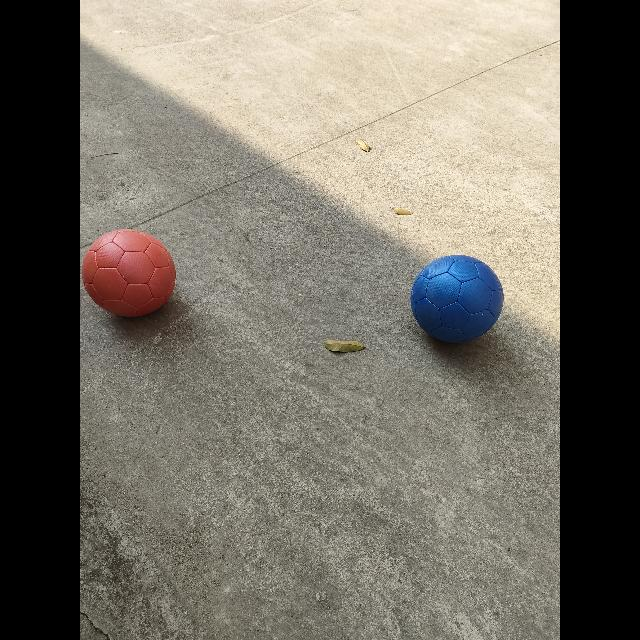B: (410, 255, 504, 346)
R: (82, 230, 177, 321)
